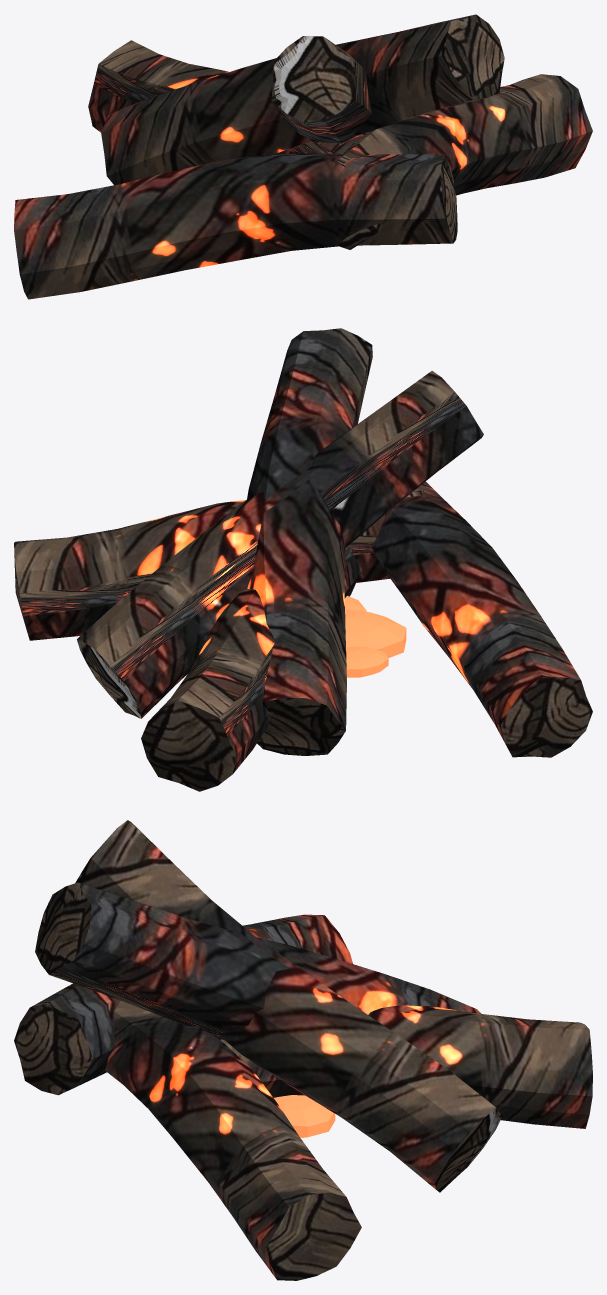
The model's file is cui-chay-do-1.glb.
The picture shows the model from 3 angles, top to bottom: view 1: azimuth 30°, elevation 25°; view 2: azimuth 150°, elevation 25°; view 3: azimuth 270°, elevation 25°; orthographic projection. The views are drawn at different scales.
Parts seen in each view (by area): view 1: log; view 2: log; view 3: log.
Boxes of the visible parts, left/top/right/bottom form: log: left=14, top=14, right=592, bottom=299; log: left=14, top=328, right=592, bottom=791; log: left=14, top=820, right=592, bottom=1280.
Size of the model in its own units: 0.7318 by 0.3386 by 0.6056.
3 materials, 2 textured.
